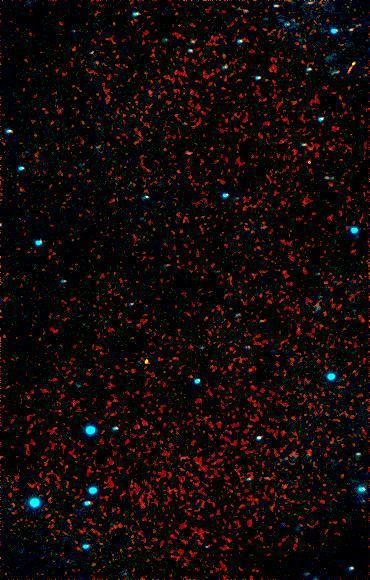star: (131, 347, 161, 377)
